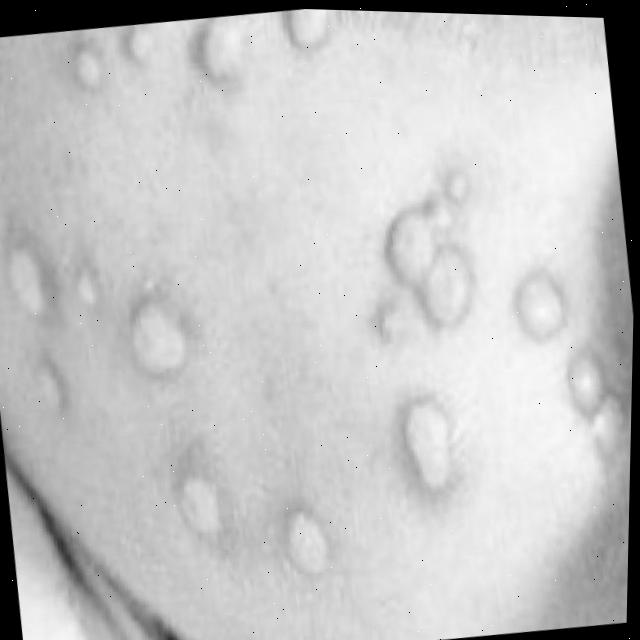Eczema: (0, 0, 640, 598)
